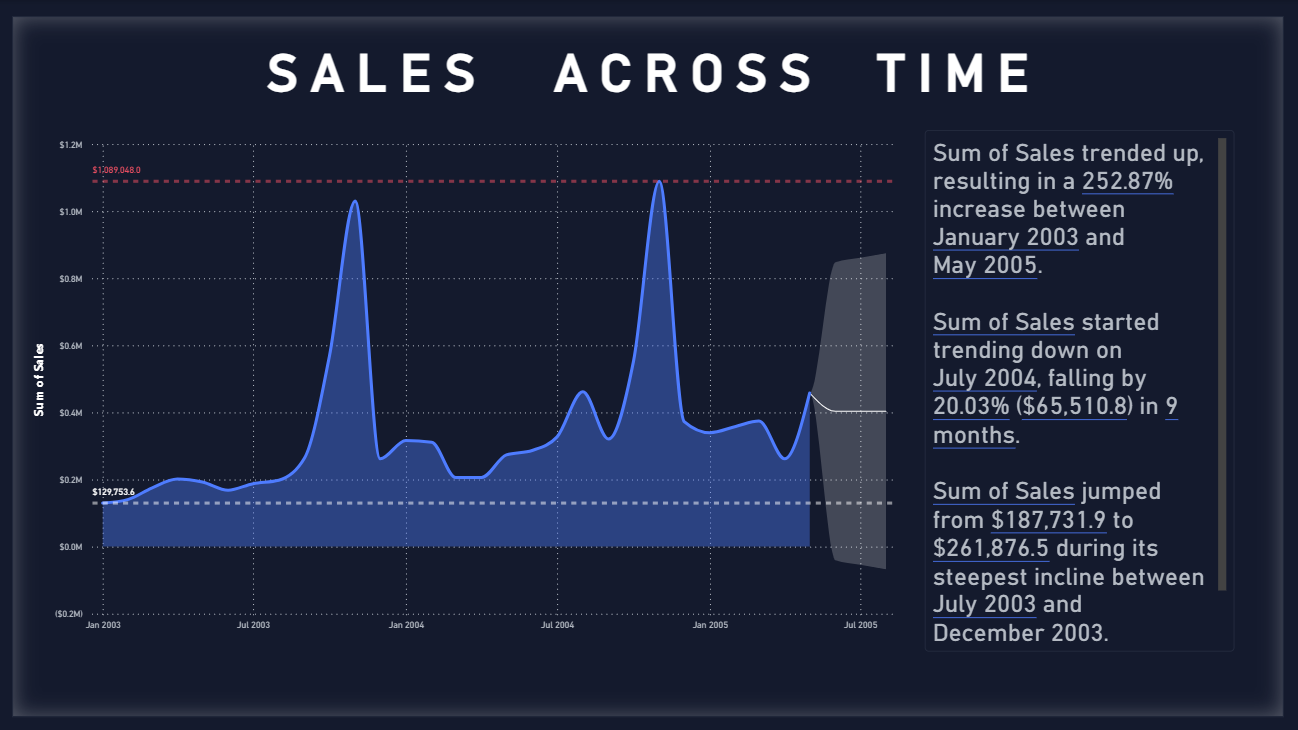

What the dashboard file says about the page in this screenshot:
{"tool":"powerbi","page":{"name":"Sales Trend","canvas":[1280,720],"ordinal":5},"visuals":[{"type":"textbox","box":[16,16,1248,688],"z":0},{"type":"lineChart","title":"Sales Across Time","fields":{"Y":["Sum(Sales.Sales)"],"Category":["Sales.Order Date.Variation.Date Hierarchy.Year","Sales.Order Date.Variation.Date Hierarchy.Month"]},"box":[32,128,864,512],"z":1000},{"type":"textbox","box":[912,128,304,512],"z":2000}]}

Visuals, with their boxes in screenshot pixels (x1, y1, x2, y2), scaled from the page's 1280x720 canvas onto the 1298x730 screenshot:
textbox: <bbox>16, 16, 1282, 714</bbox>
"Sales Across Time" lineChart: <bbox>32, 130, 909, 649</bbox>
textbox: <bbox>925, 130, 1233, 649</bbox>
